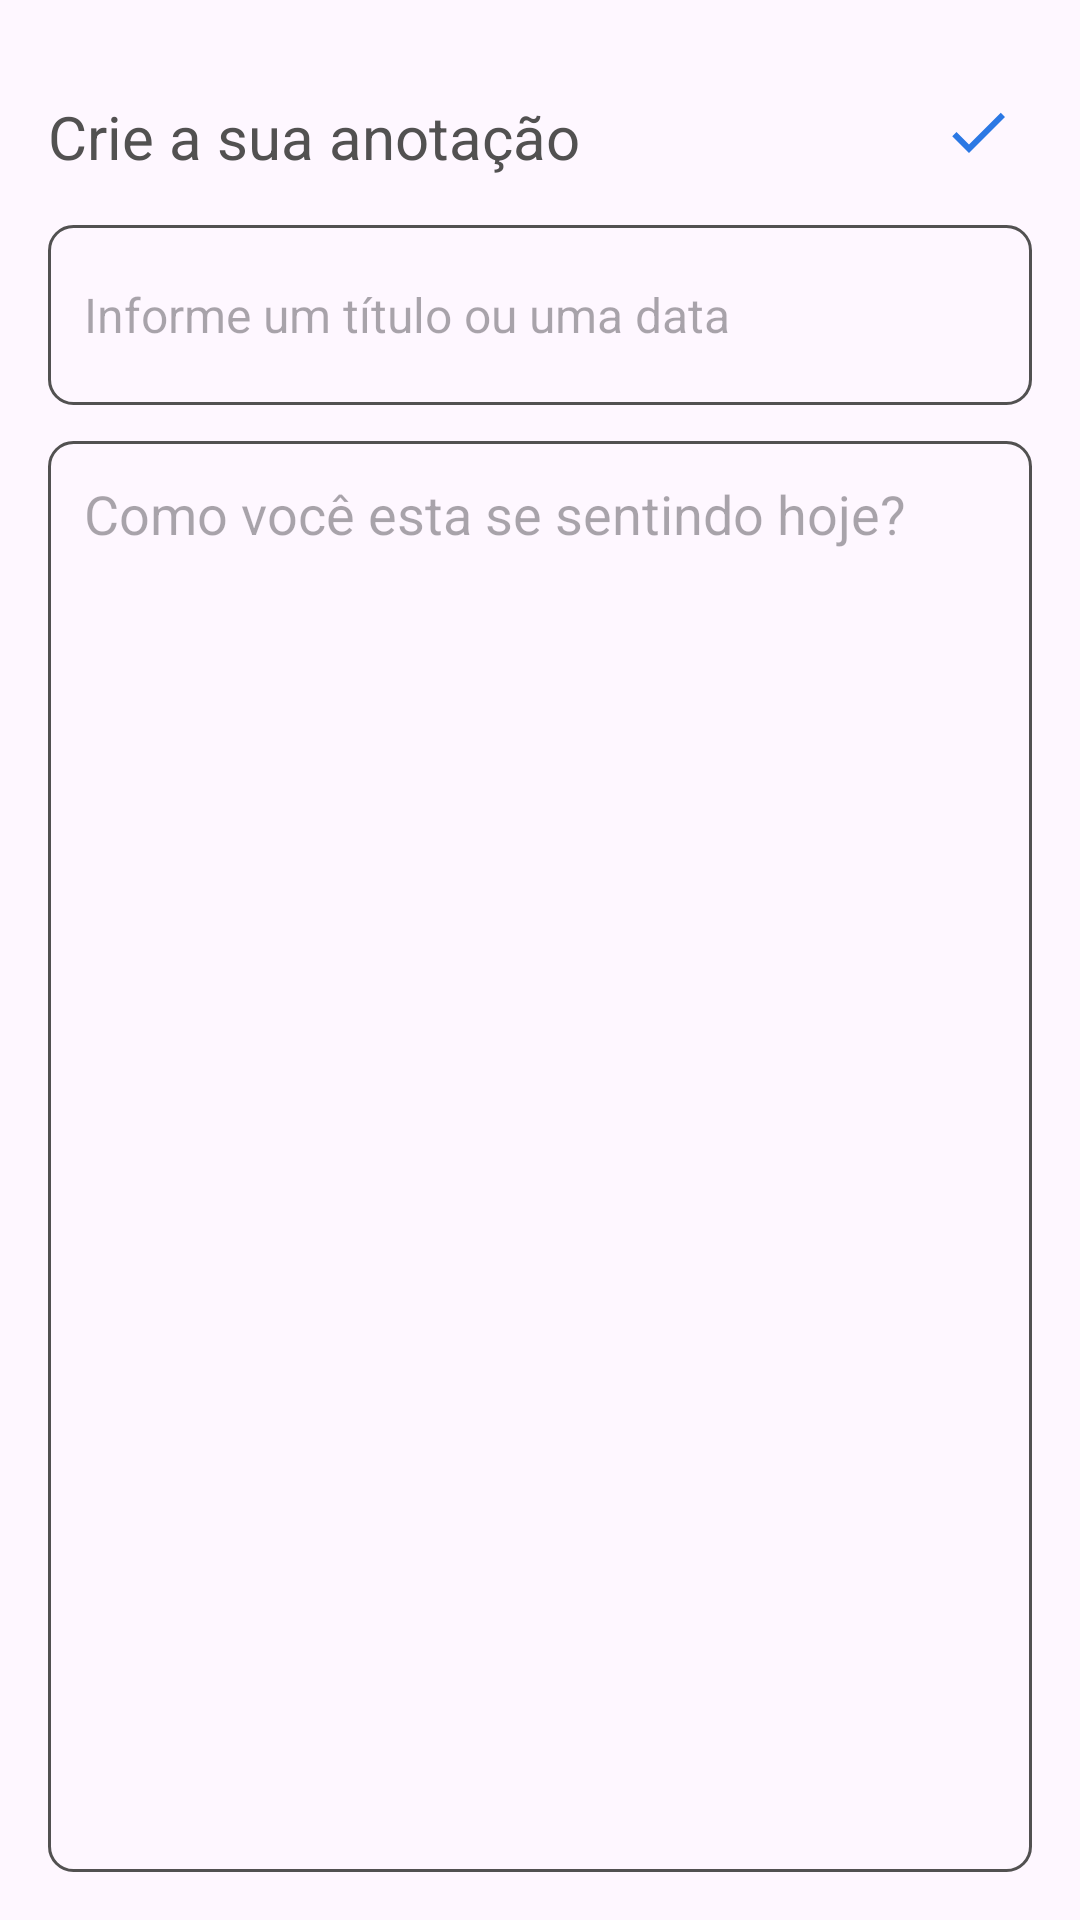

Where icons sit on this 1080x1920 app screen, as (x1, y1, x2, y2):
salvar anotacao: (952, 113, 1005, 153)
